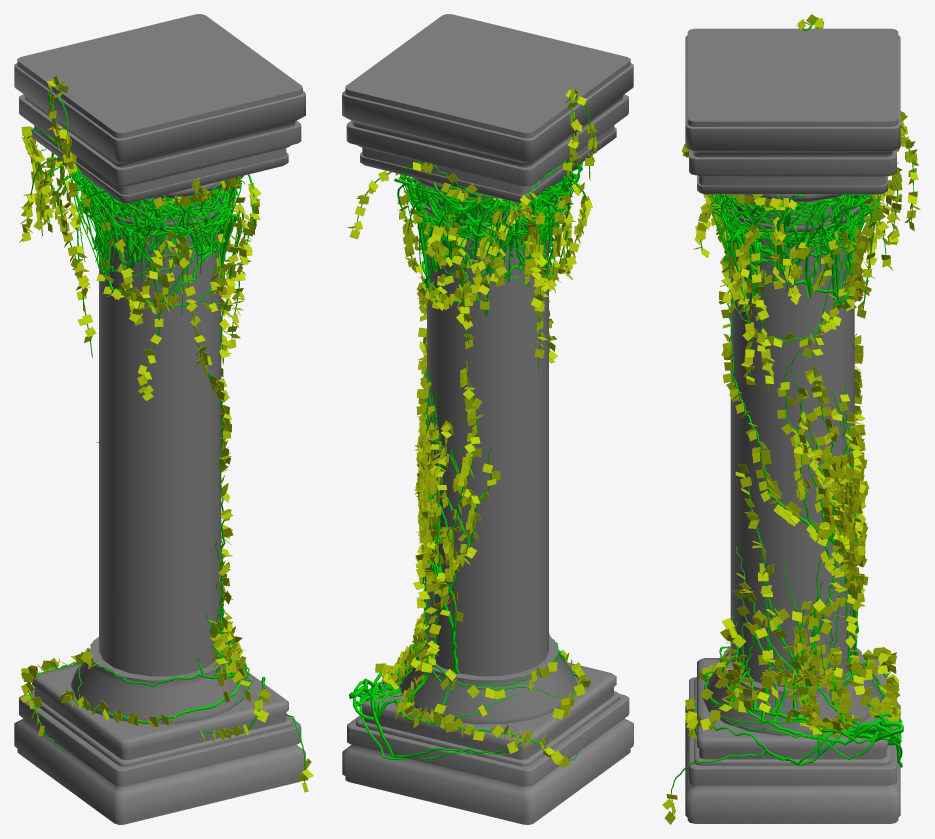
File: Column1.fbx
The picture shows the model from 3 angles, left to right: view 1: azimuth 30°, elevation 25°; view 2: azimuth 150°, elevation 25°; view 3: azimuth 270°, elevation 25°; orthographic projection.
Parts seen in each view (by area): view 1: Box.002, Box.004, Box.005, Cube.2235, IVY_Curve.003, Cube.1551, Cube.3211, IVY_Curve.004, IVY_Curve.002, Cube.149; view 2: Box.002, Box.004, Box.005, Cube.2235, Cube.149, IVY_Curve.003, Cube.1551, IVY_Curve.002, Cube.3211, IVY_Curve.004, IVY_Curve; view 3: Box.002, Box.004, Box.005, Cube.1551, Cube.149, Cube.2235, IVY_Curve.002, IVY_Curve.003, Cube.3211, IVY_Curve.004, IVY_Curve.
Part boxes in pixels (bbox=[...]): Box.002: bbox=[71, 172, 248, 724]; Box.004: bbox=[14, 14, 305, 203]; Box.005: bbox=[14, 663, 305, 824]; Cube.2235: bbox=[19, 75, 261, 325]; IVY_Curve.003: bbox=[25, 82, 255, 314]; Cube.1551: bbox=[20, 445, 313, 792]; Cube.3211: bbox=[69, 208, 251, 400]; IVY_Curve.004: bbox=[76, 198, 245, 387]; IVY_Curve.002: bbox=[26, 453, 305, 783]; Cube.149: bbox=[95, 299, 231, 471]; Box.002: bbox=[399, 175, 576, 724]; Box.004: bbox=[342, 14, 633, 203]; Box.005: bbox=[342, 662, 633, 824]; Cube.2235: bbox=[347, 89, 597, 309]; Cube.149: bbox=[414, 327, 500, 621]; IVY_Curve.003: bbox=[355, 96, 594, 302]; Cube.1551: bbox=[375, 557, 591, 767]; IVY_Curve.002: bbox=[349, 541, 578, 760]; Cube.3211: bbox=[415, 214, 559, 363]; IVY_Curve.004: bbox=[412, 182, 565, 370]; IVY_Curve: bbox=[424, 333, 491, 673]; Box.002: bbox=[702, 194, 882, 735]; Box.004: bbox=[685, 28, 900, 194]; Box.005: bbox=[685, 658, 900, 823]; Cube.1551: bbox=[662, 464, 900, 824]; Cube.149: bbox=[718, 277, 869, 611]; Cube.2235: bbox=[681, 14, 920, 304]; IVY_Curve.002: bbox=[671, 473, 903, 815]; IVY_Curve.003: bbox=[700, 21, 914, 297]; Cube.3211: bbox=[713, 194, 885, 390]; IVY_Curve.004: bbox=[720, 194, 878, 377]; IVY_Curve: bbox=[727, 290, 859, 655].
Size of the model in its own units: 430 by 1437 by 468.
